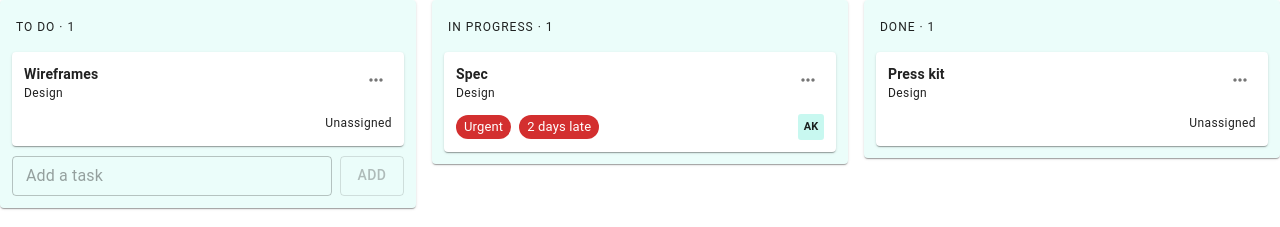
Test: TaskBoard › keeps what was typed when the save fails
The image size is (1280, 227).
Type "Style guide" into the field named "New task name". click: (172, 176)
box: [12,156,332,196]
Then press Enter
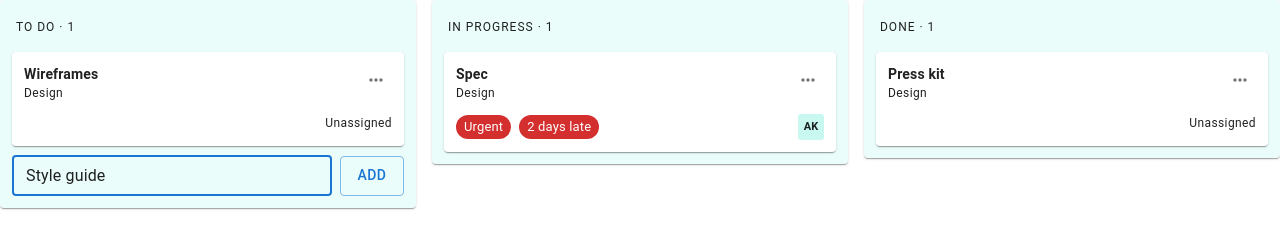
Check: the button "Add" is enabled, box [340,156,404,196]
